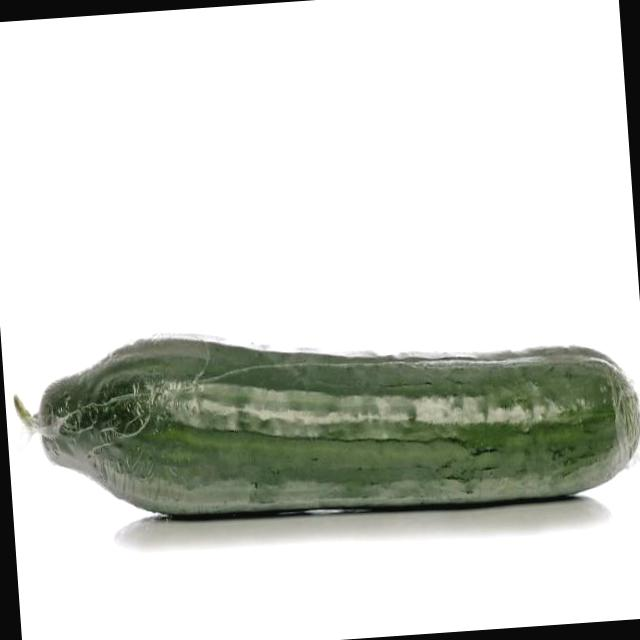Cucumber: (24, 291, 640, 539)
